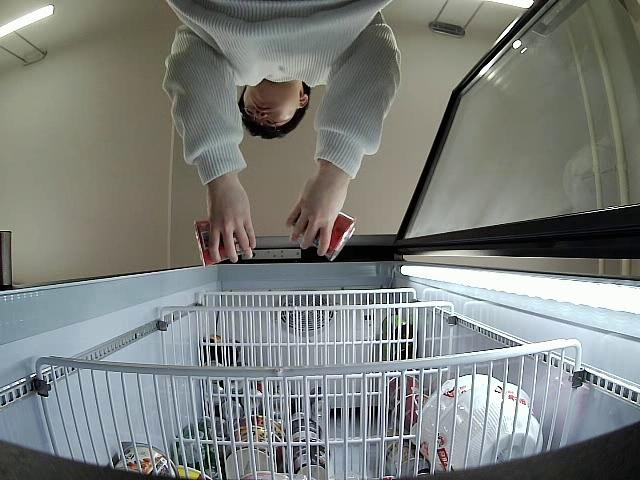00_hand: (284, 169, 348, 257), (206, 176, 257, 265)
02_shinRamen_S: (292, 210, 357, 264), (191, 217, 258, 269)
